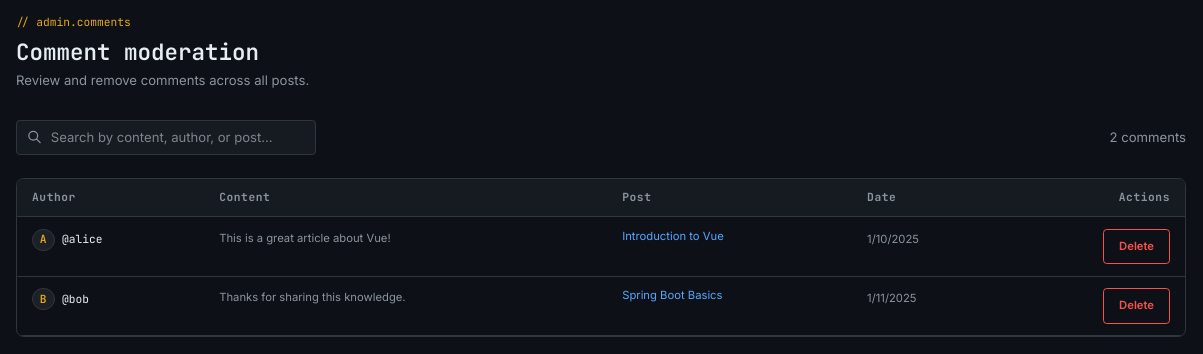
Test: CommentsView (admin) › removes the deleted comment from the list after deletion
Click the button "Delete" in the row of "@alice": {"x": 1137, "y": 246} [1103, 228, 1170, 264]
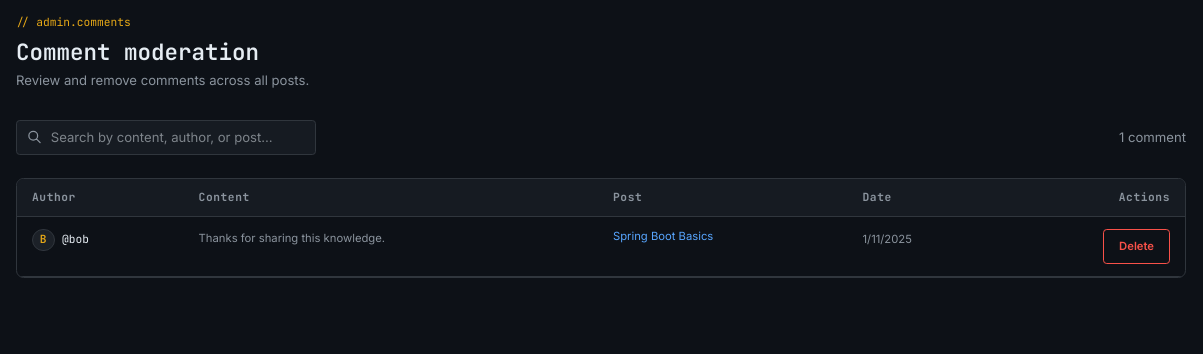
Expected: the text "@bob" is shown, [62, 232, 89, 247]
Expected: the text "@alice" is gone
